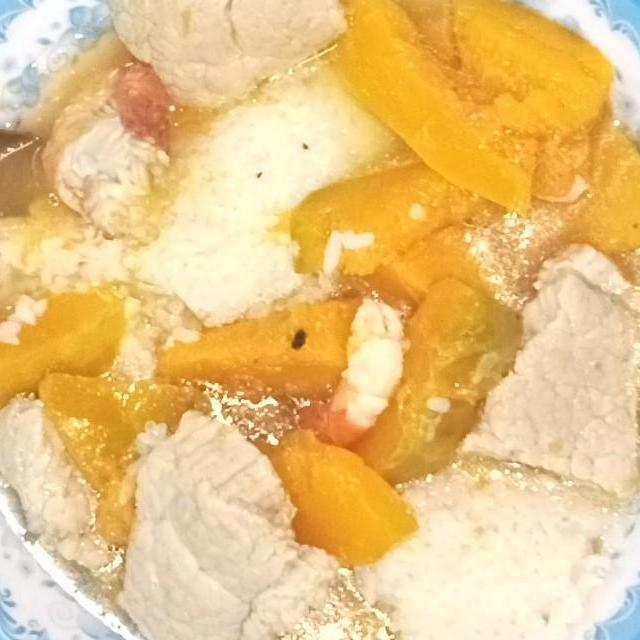com: (122, 66, 404, 332), (360, 449, 640, 640)
thit heo: (103, 401, 354, 640), (463, 235, 640, 502), (88, 0, 357, 116), (0, 386, 131, 590)
tom: (30, 44, 184, 252), (302, 291, 416, 454)
